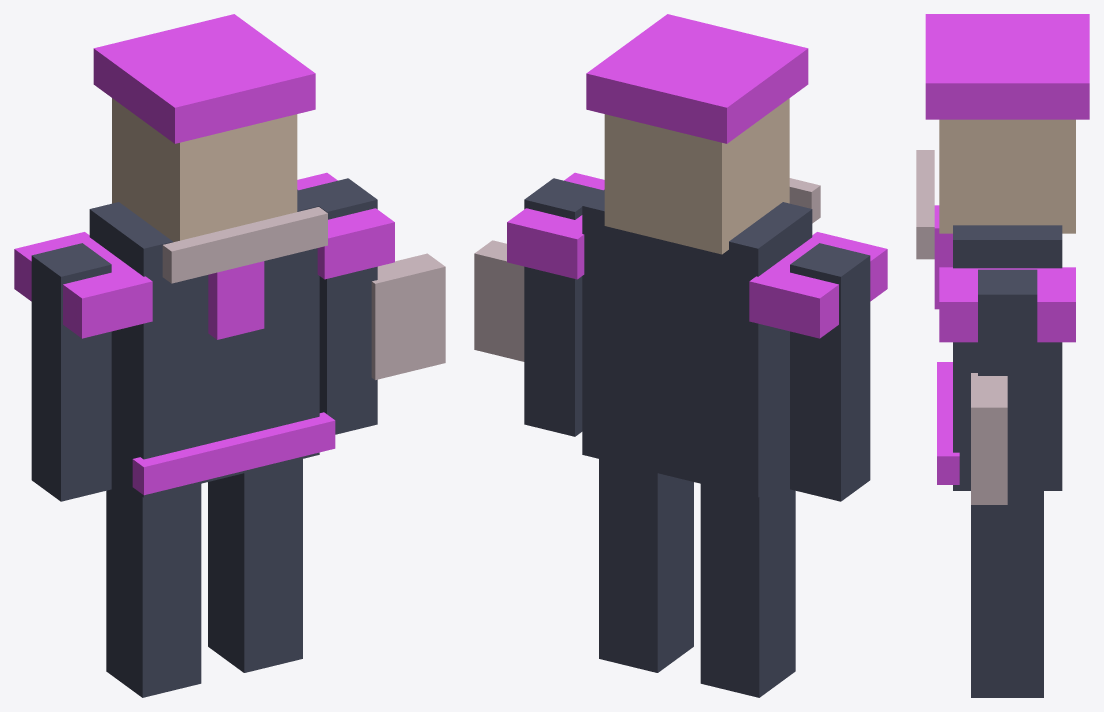
The model's file is 18_ren_runeclasp_pilgrim_at_data.glb.
The picture shows the model from 3 angles, left to right: view 1: azimuth 30°, elevation 25°; view 2: azimuth 150°, elevation 25°; view 3: azimuth 270°, elevation 25°; orthographic projection.
Visible parts, largest first — view 1: Ren Runeclasp, Pilgrim at Data; view 2: Ren Runeclasp, Pilgrim at Data; view 3: Ren Runeclasp, Pilgrim at Data.
Part boxes in pixels (x1,y1,x2,y2): Ren Runeclasp, Pilgrim at Data: [14, 14, 445, 697]; Ren Runeclasp, Pilgrim at Data: [474, 14, 887, 697]; Ren Runeclasp, Pilgrim at Data: [916, 14, 1089, 697].
Bounding box in the file's own units: 1.07 × 1.62 × 0.4161.
